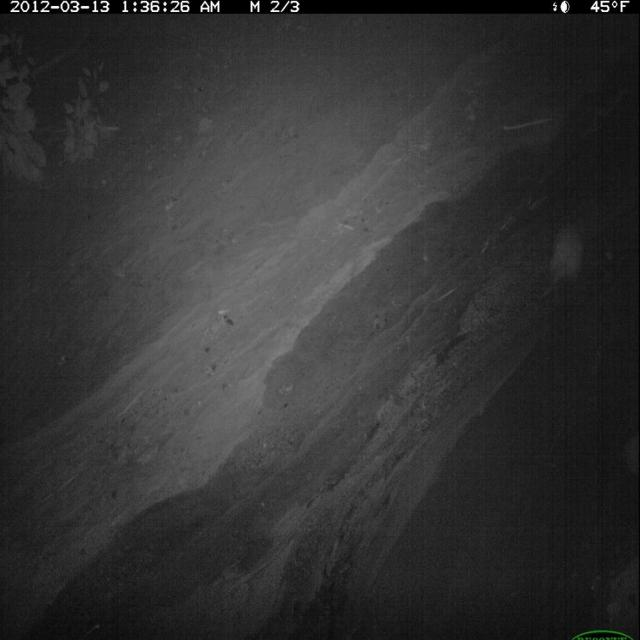opossum: (533, 214, 594, 301)
